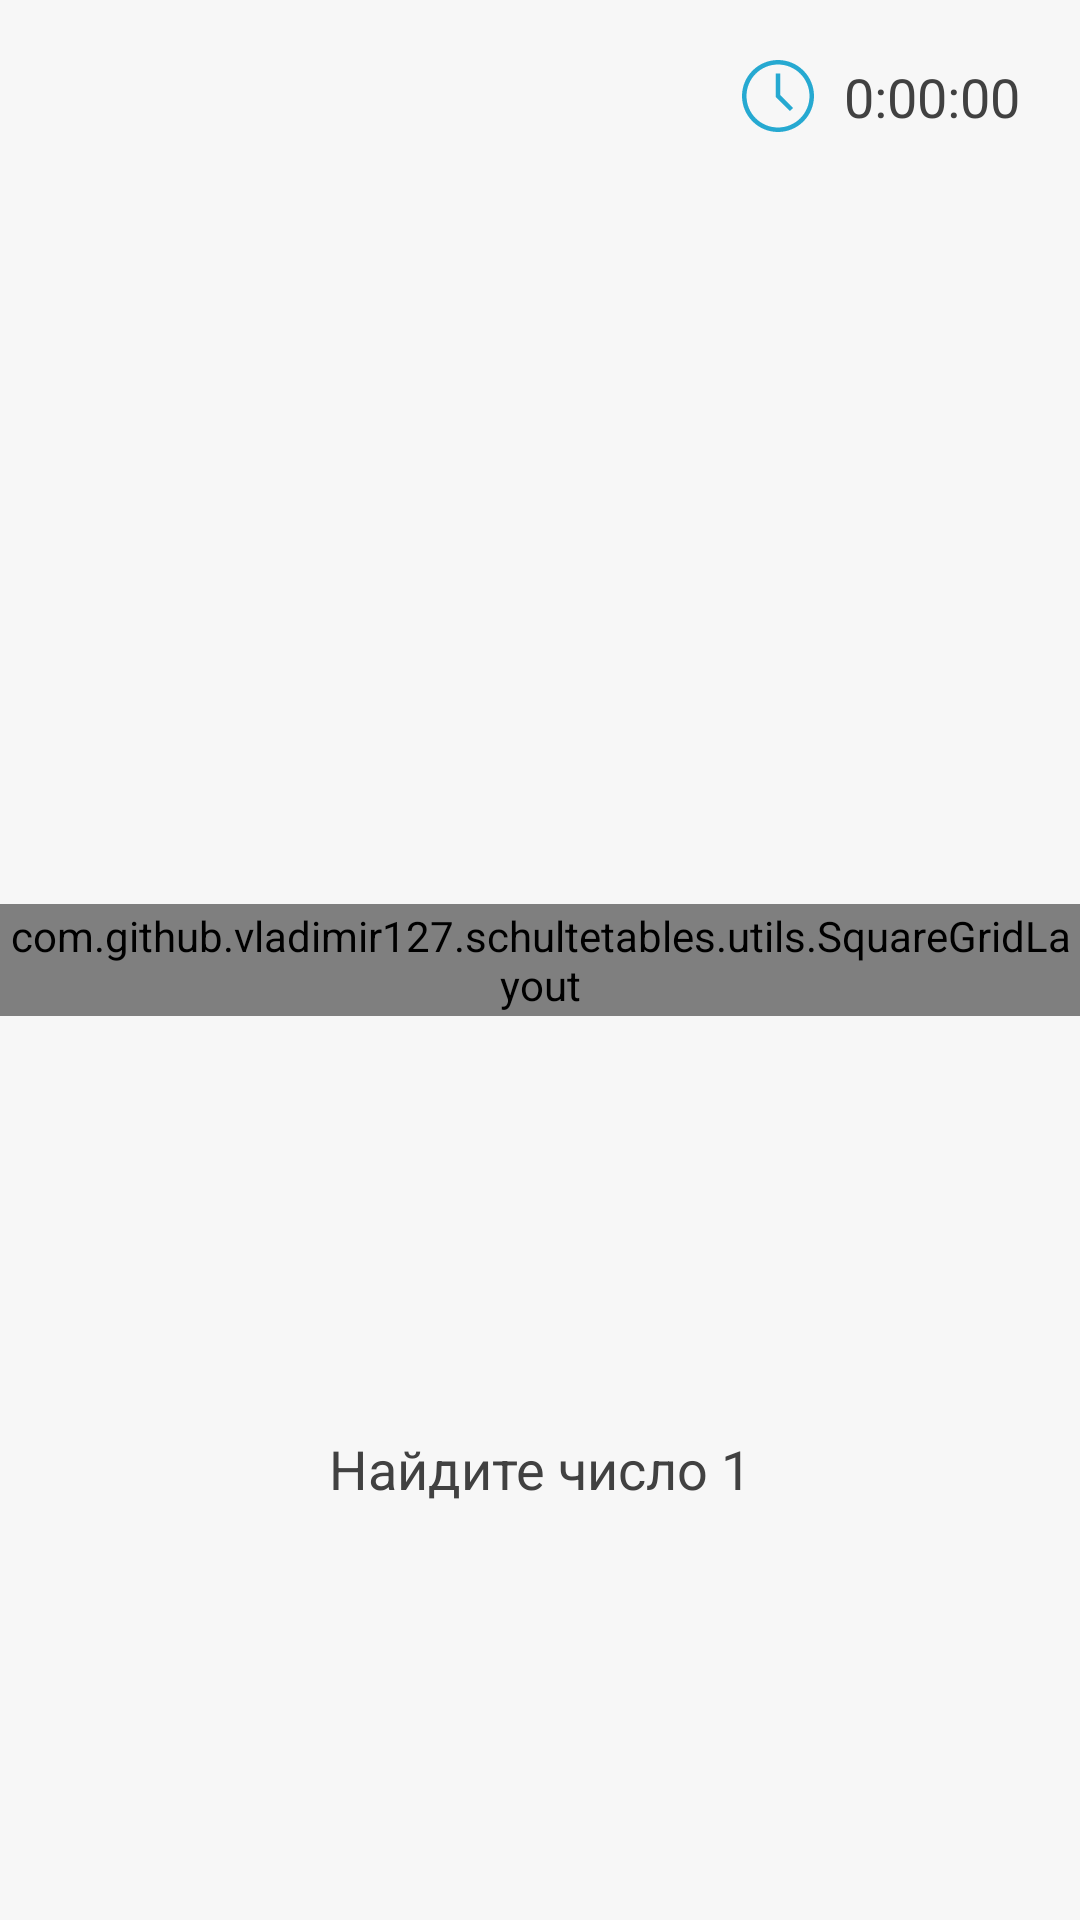

Named icons in this screenshot (1080px x 1920px) and their centers, [x,y]:
clock: [778,96]
